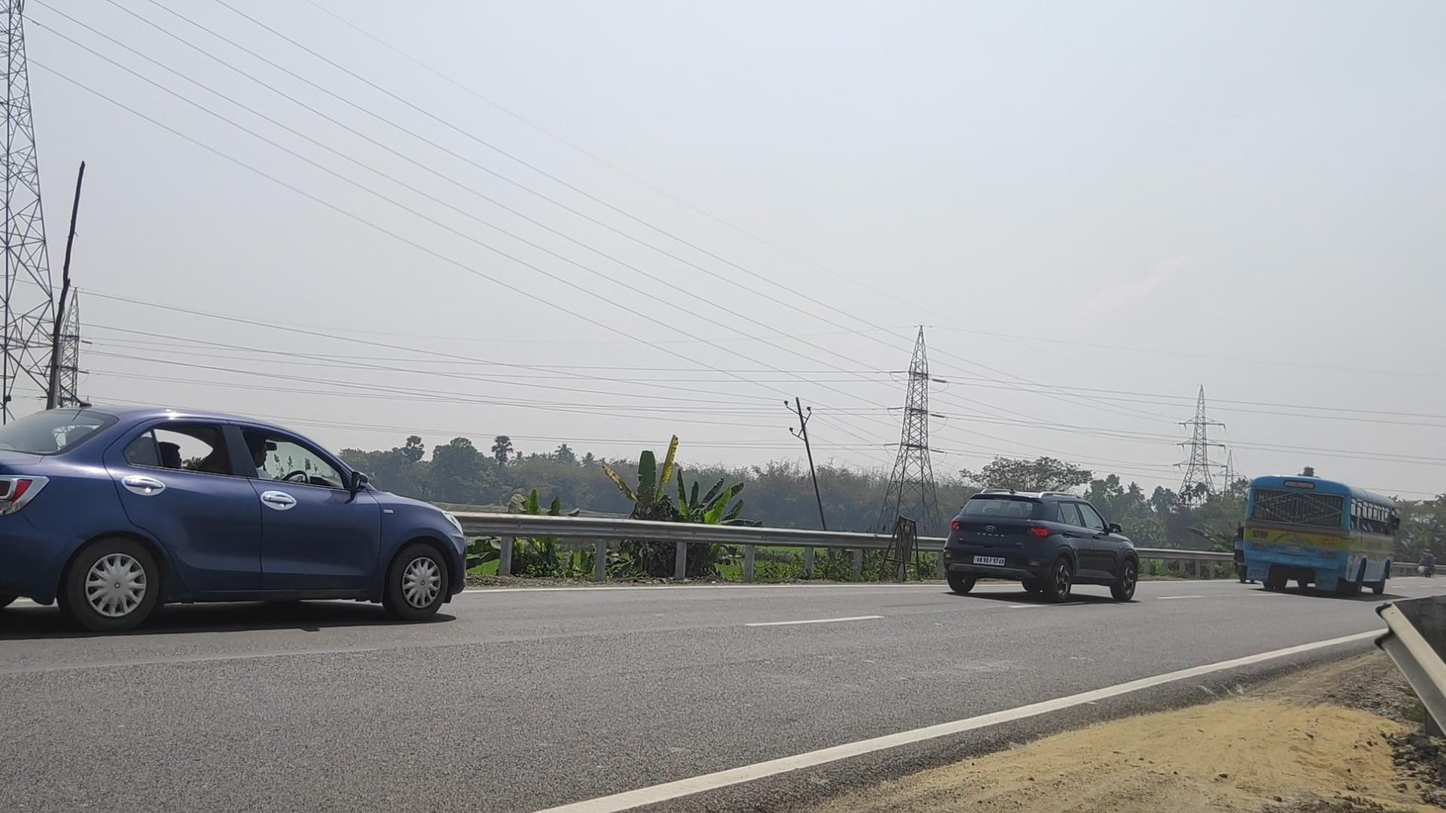Bus: (1243, 474, 1400, 596)
car: (1, 401, 468, 635), (943, 487, 1139, 604)
